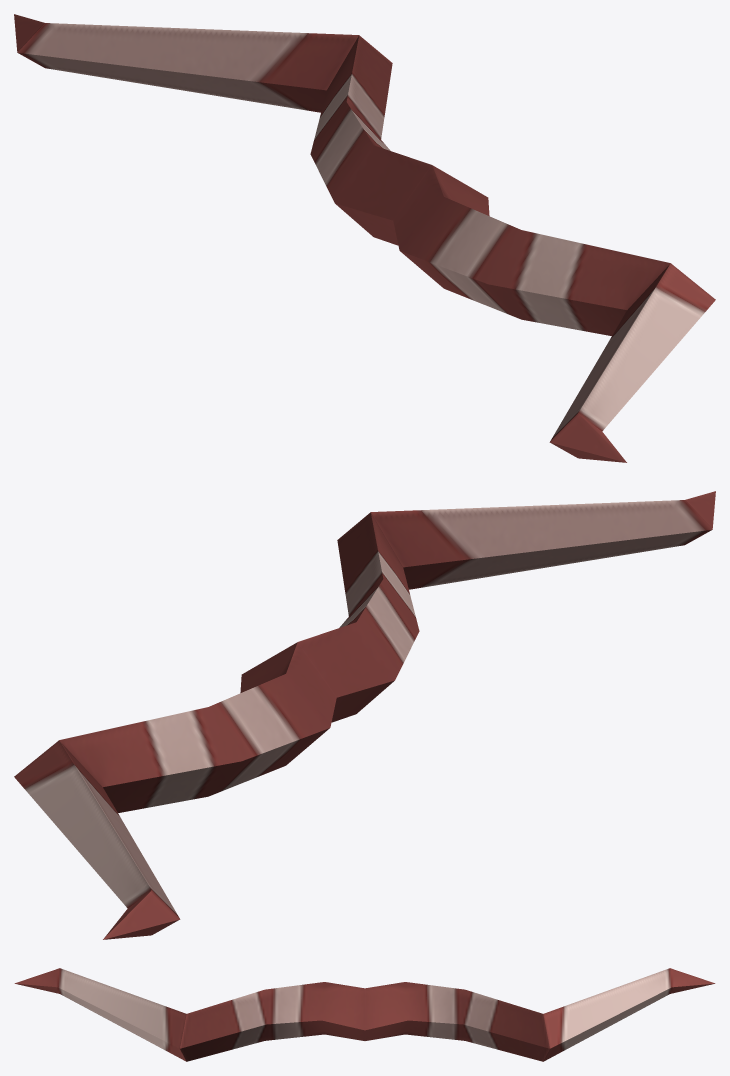
File: Archer_weapon.FBX
3 renders of one model, top to bottom at view 1: azimuth 30°, elevation 25°; view 2: azimuth 150°, elevation 25°; view 3: azimuth 270°, elevation 25°, orthographic. The views are drawn at different scales.
Parts seen in each view (by area): view 1: Archer_weapon; view 2: Archer_weapon; view 3: Archer_weapon.
Boxes of the visible parts, x1,y1,x2,y2 form: Archer_weapon: (14, 14, 715, 462); Archer_weapon: (14, 491, 715, 939); Archer_weapon: (14, 968, 715, 1061).
Size of the model in its own units: 28.47 by 9.28 by 112.
